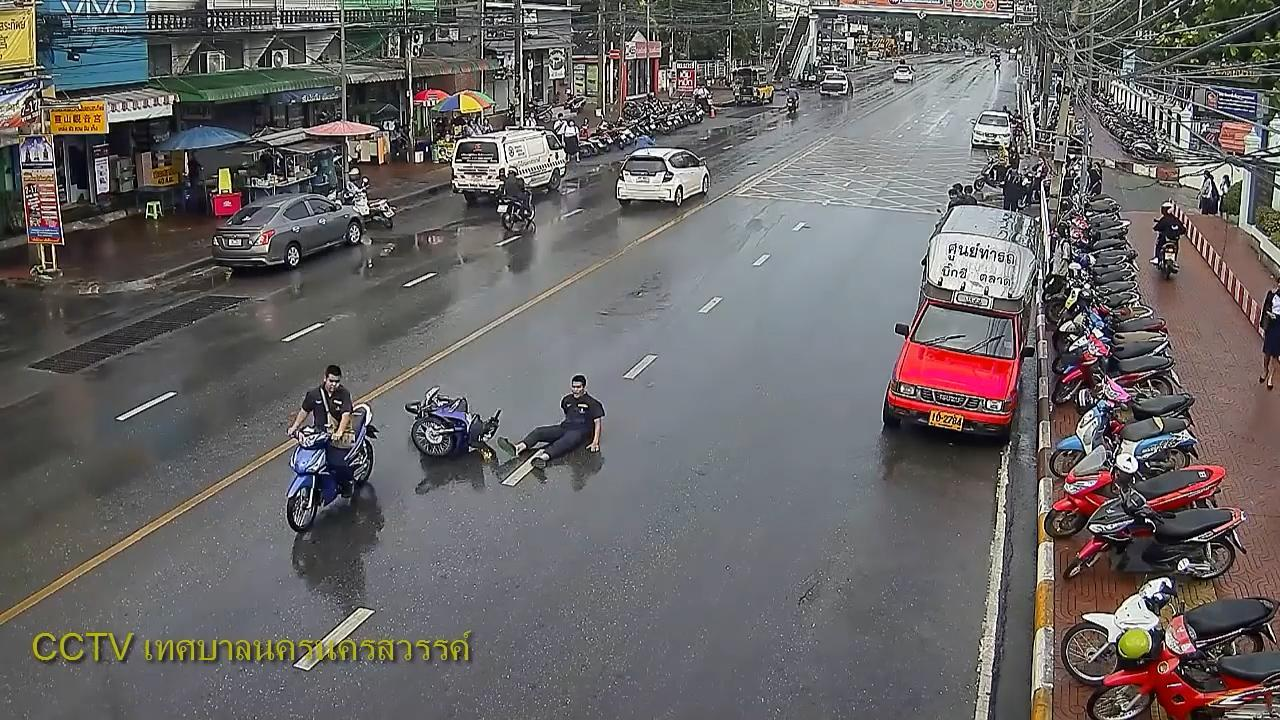accident: (495, 374, 607, 481)
